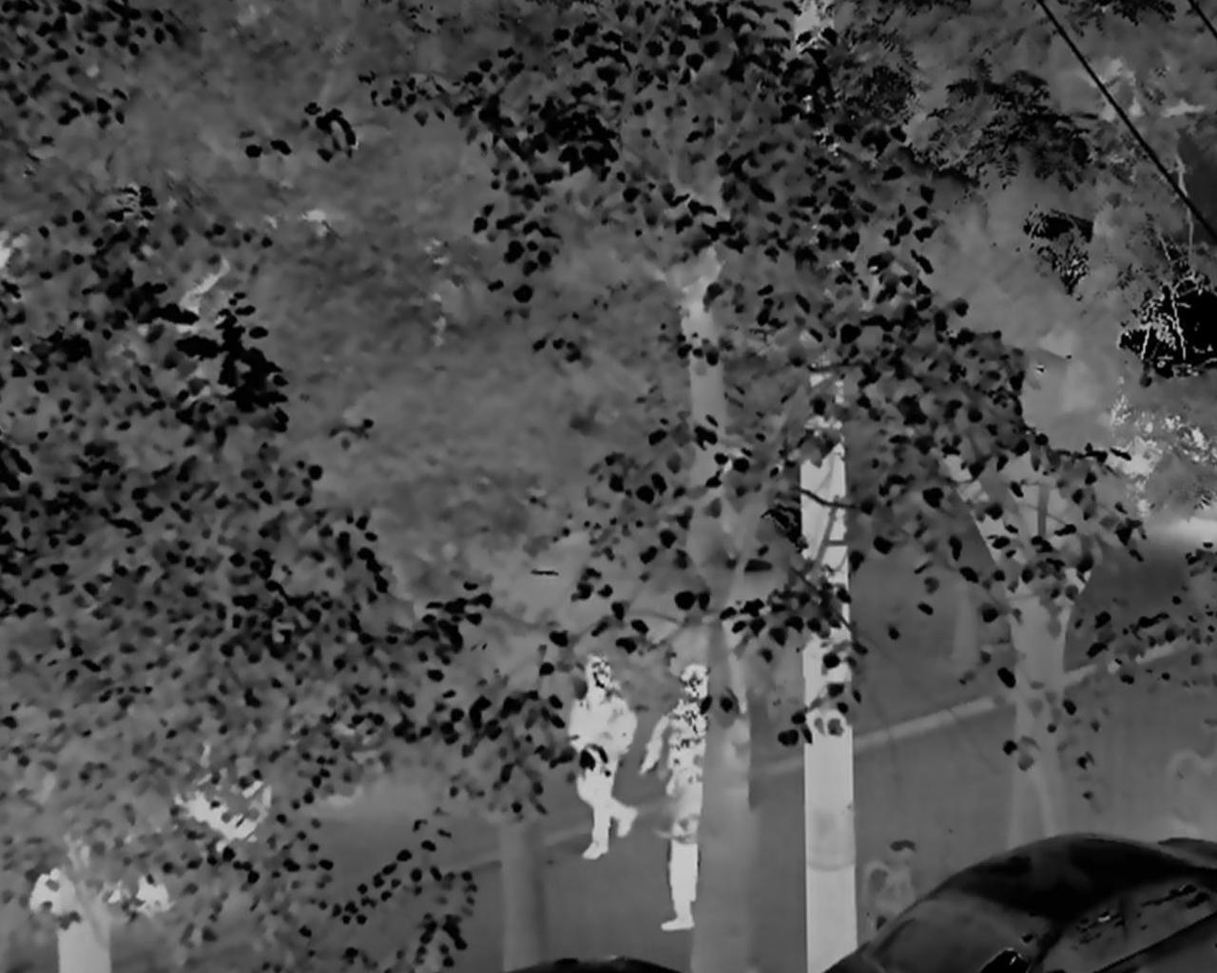person: (644, 666, 711, 927), (567, 655, 639, 863)
